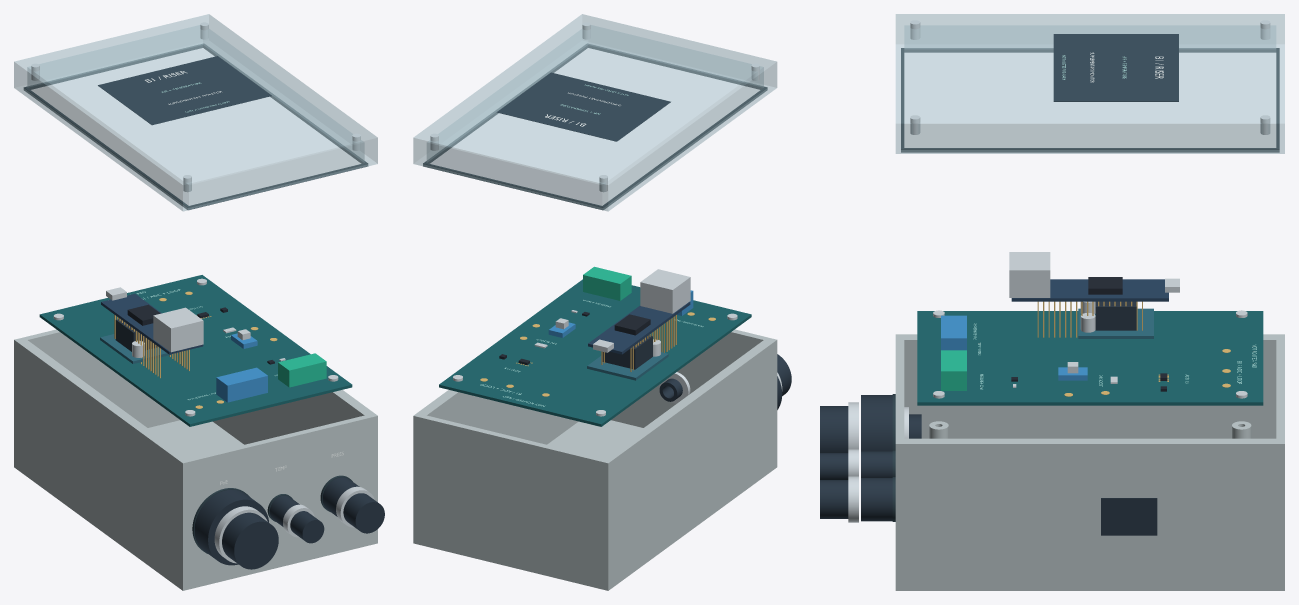
Rendered from B1_exploded_assembly.glb.
3 renders of one model, left to right at view 1: azimuth 30°, elevation 25°; view 2: azimuth 150°, elevation 25°; view 3: azimuth 270°, elevation 25°, orthographic. The views are drawn at different scales.
Parts seen in each view (by area): view 1: 01_Polycarbonate_enclosure_surrogate, 02_Clear_polycarbonate_lid, 20_Main_B1_carrier_PCB_NOT_ROUTED, Exterior decal — not product certification, 03_Lid_seal_visual_marker, 74_POE_ETH_external_male_cord, 70_POE_ETH_female_panel_socket, 33_RJ45_socket, 61_J2_TEMPERATURE_3PIN, 60_J1_PRESSURE_LOOP_2PIN, 74_LOOP_4_20MA_external_male_cord, 30_Waveshare_ESP32_S3_ETH_surrogate (+6 smaller); view 2: 01_Polycarbonate_enclosure_surrogate, 02_Clear_polycarbonate_lid, 20_Main_B1_carrier_PCB_NOT_ROUTED, Exterior decal — not product certification, 03_Lid_seal_visual_marker, 33_RJ45_socket, 30_Waveshare_ESP32_S3_ETH_surrogate, 60_J1_PRESSURE_LOOP_2PIN, 40_PoE_factory_module_PCB_surrogate, 41_PoE_magnetics, 32_ESP32_RF_chip; view 3: 01_Polycarbonate_enclosure_surrogate, 02_Clear_polycarbonate_lid, 20_Main_B1_carrier_PCB_NOT_ROUTED, Exterior decal — not product certification, 03_Lid_seal_visual_marker, 30_Waveshare_ESP32_S3_ETH_surrogate, 76_AUX_RESERVED_UNDRILLED_WALL_MARKER, 33_RJ45_socket, 70_POE_ETH_female_panel_socket, 70_LOOP_4_20MA_female_panel_socket, 74_POE_ETH_external_male_cord, 41_PoE_magnetics (+7 smaller).
Boxes of the visible parts, box(x1,y1,x2,y2) form: 01_Polycarbonate_enclosure_surrogate: box(14, 329, 377, 590); 02_Clear_polycarbonate_lid: box(14, 14, 377, 211); 20_Main_B1_carrier_PCB_NOT_ROUTED: box(39, 275, 352, 426); Exterior decal — not product certification: box(98, 56, 271, 125); 03_Lid_seal_visual_marker: box(24, 44, 368, 209); 74_POE_ETH_external_male_cord: box(222, 512, 278, 569); 70_POE_ETH_female_panel_socket: box(194, 489, 268, 565); 33_RJ45_socket: box(153, 307, 203, 352); 61_J2_TEMPERATURE_3PIN: box(216, 367, 267, 402); 60_J1_PRESSURE_LOOP_2PIN: box(278, 353, 326, 387); 74_LOOP_4_20MA_external_male_cord: box(343, 493, 384, 533); 30_Waveshare_ESP32_S3_ETH_surrogate: box(101, 293, 203, 354); 01_Polycarbonate_enclosure_surrogate: box(413, 329, 777, 590); 02_Clear_polycarbonate_lid: box(413, 14, 777, 211); 20_Main_B1_carrier_PCB_NOT_ROUTED: box(439, 279, 751, 426); Exterior decal — not product certification: box(497, 72, 670, 141); 03_Lid_seal_visual_marker: box(423, 43, 767, 210); 33_RJ45_socket: box(640, 269, 690, 313); 30_Waveshare_ESP32_S3_ETH_surrogate: box(588, 302, 690, 354); 60_J1_PRESSURE_LOOP_2PIN: box(583, 266, 631, 300); 40_PoE_factory_module_PCB_surrogate: box(587, 352, 668, 380); 41_PoE_magnetics: box(602, 335, 652, 369); 32_ESP32_RF_chip: box(614, 314, 650, 335); 01_Polycarbonate_enclosure_surrogate: box(895, 334, 1284, 590); 02_Clear_polycarbonate_lid: box(895, 14, 1284, 153); 20_Main_B1_carrier_PCB_NOT_ROUTED: box(917, 311, 1263, 405); Exterior decal — not product certification: box(1053, 34, 1178, 101); 03_Lid_seal_visual_marker: box(901, 48, 1279, 152); 30_Waveshare_ESP32_S3_ETH_surrogate: box(1011, 279, 1168, 301); 76_AUX_RESERVED_UNDRILLED_WALL_MARKER: box(1101, 498, 1157, 535); 33_RJ45_socket: box(1009, 252, 1050, 297); 70_POE_ETH_female_panel_socket: box(861, 395, 892, 451); 70_LOOP_4_20MA_female_panel_socket: box(861, 478, 892, 521); 74_POE_ETH_external_male_cord: box(820, 406, 848, 452); 41_PoE_magnetics: box(1095, 301, 1136, 330).
Size of the model in its own units: 121 by 239 by 215.
